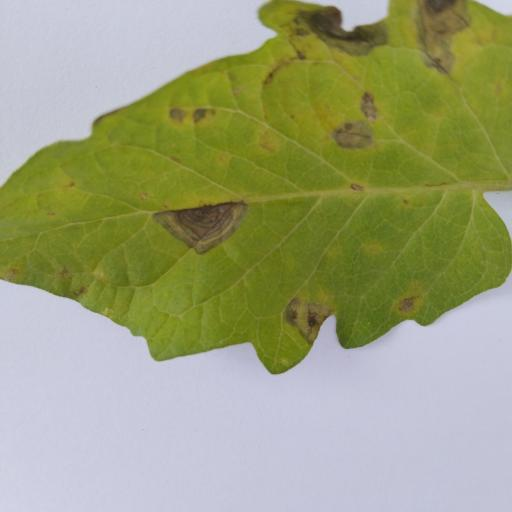disease_tomato: (0, 0, 512, 377)
